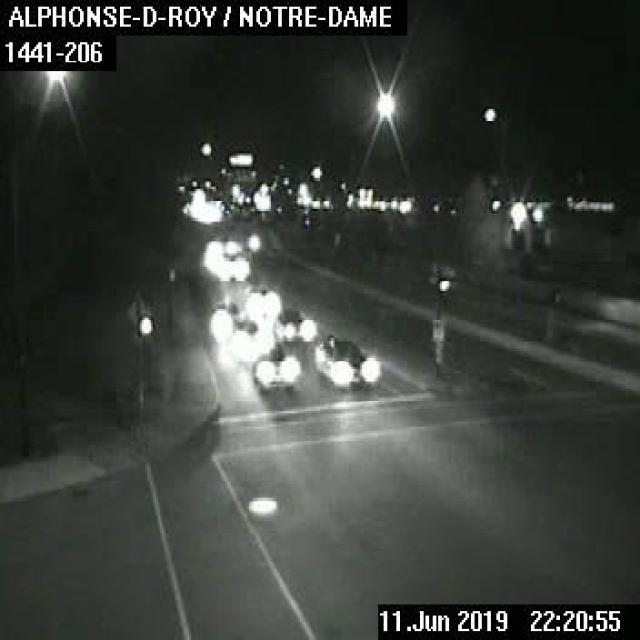vehicle: (313, 334, 376, 384), (249, 348, 299, 392), (242, 287, 279, 320), (270, 310, 308, 342), (216, 253, 249, 281)
